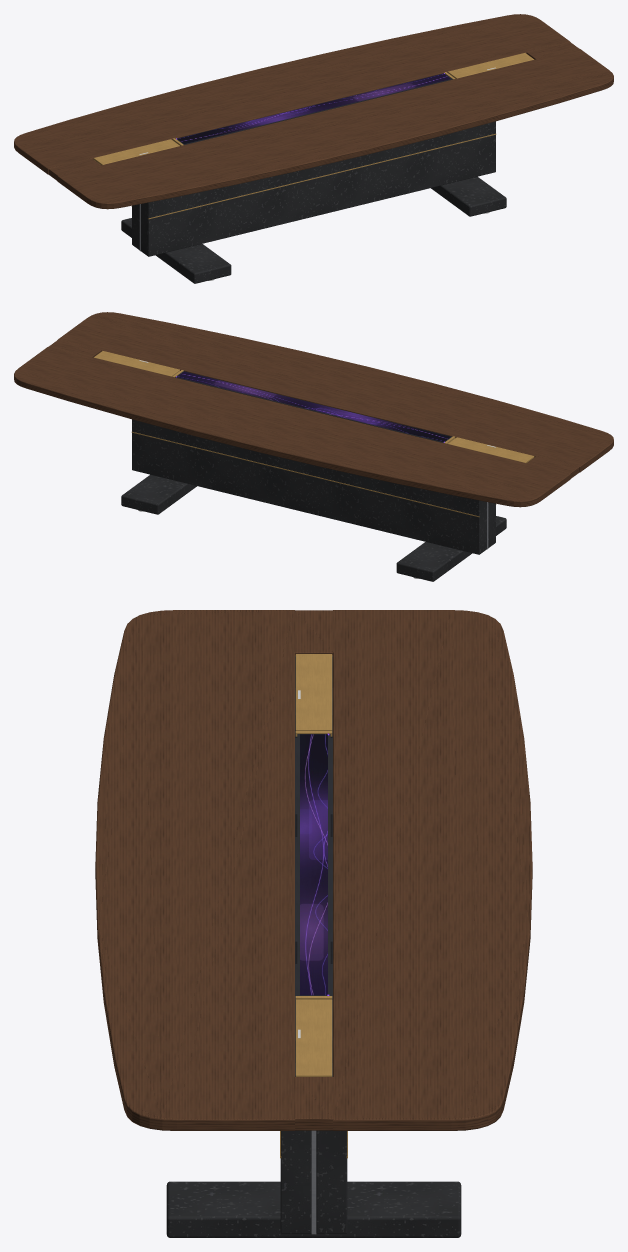
Rendered from boardroom_table.glb.
The picture shows the model from 3 angles, top to bottom: view 1: azimuth 30°, elevation 25°; view 2: azimuth 150°, elevation 25°; view 3: azimuth 270°, elevation 25°; orthographic projection. The views are drawn at different scales.
Visible parts, largest first — view 1: part_top_LOD0, part_spine_LOD0, part_display_LOD0, part_foot_r_LOD0, part_foot_l_LOD0, part_lid_r_LOD0, part_lid_l_LOD0; view 2: part_top_LOD0, part_spine_LOD0, part_display_LOD0, part_foot_r_LOD0, part_foot_l_LOD0, part_lid_r_LOD0, part_lid_l_LOD0; view 3: part_top_LOD0, part_foot_l_LOD0, part_display_LOD0, part_spine_LOD0, part_lid_l_LOD0, part_lid_r_LOD0, part_trough_LOD0.
Boxes of the visible parts, <box> form: part_top_LOD0: <box>14,14,613,209</box>; part_spine_LOD0: <box>131,121,496,256</box>; part_display_LOD0: <box>172,72,455,145</box>; part_foot_r_LOD0: <box>121,218,231,283</box>; part_foot_l_LOD0: <box>431,176,506,216</box>; part_lid_r_LOD0: <box>93,139,179,165</box>; part_lid_l_LOD0: <box>448,53,533,78</box>; part_top_LOD0: <box>14,312,613,507</box>; part_spine_LOD0: <box>131,419,496,554</box>; part_display_LOD0: <box>172,370,455,443</box>; part_foot_r_LOD0: <box>396,516,506,581</box>; part_foot_l_LOD0: <box>121,474,196,514</box>; part_lid_r_LOD0: <box>448,437,534,463</box>; part_lid_l_LOD0: <box>94,351,179,376</box>; part_top_LOD0: <box>95,610,532,1130</box>; part_foot_l_LOD0: <box>166,1181,461,1237</box>; part_display_LOD0: <box>295,731,332,999</box>; part_spine_LOD0: <box>280,1130,347,1233</box>; part_lid_l_LOD0: <box>295,999,332,1076</box>; part_lid_r_LOD0: <box>295,654,332,730</box>; part_trough_LOD0: <box>295,656,332,1076</box>.
Size of what is drawn, in the model's own units: 3.61 by 0.7408 by 1.31.
15 materials, 13 textured.
